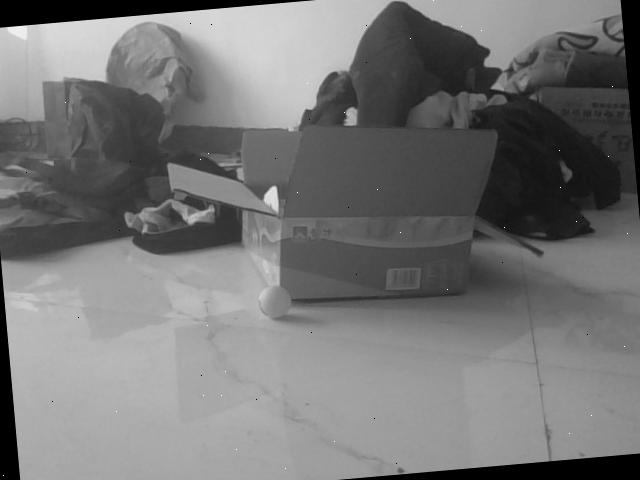ball: (257, 286, 292, 320)
